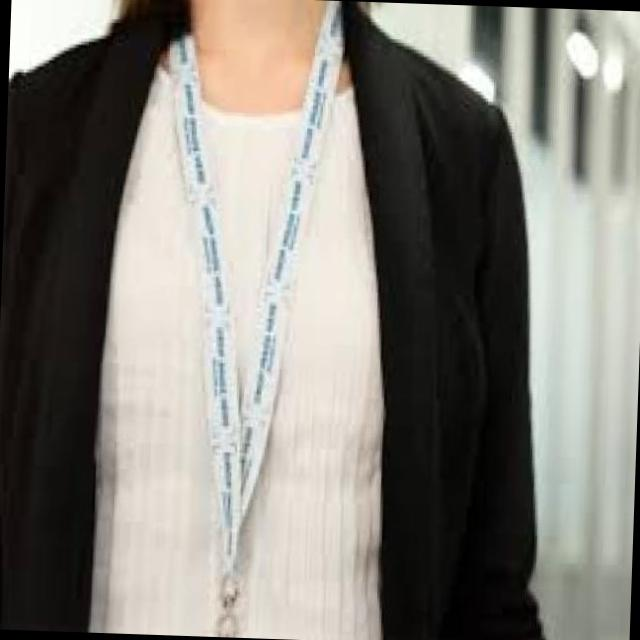id_card: (140, 17, 342, 640)
